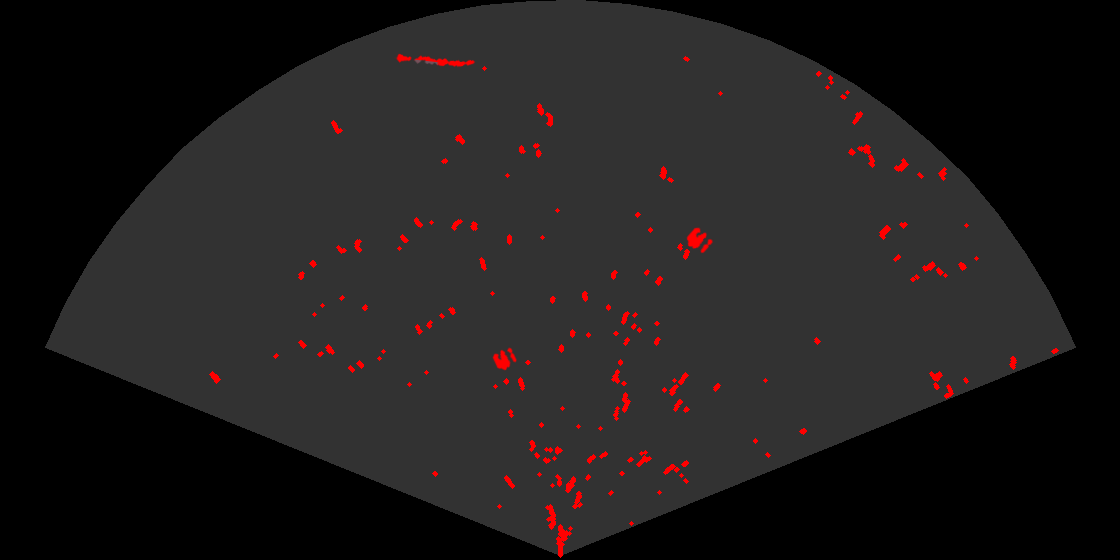ball: (685, 226, 715, 255), (491, 346, 518, 372)
chain: (394, 52, 476, 69)
